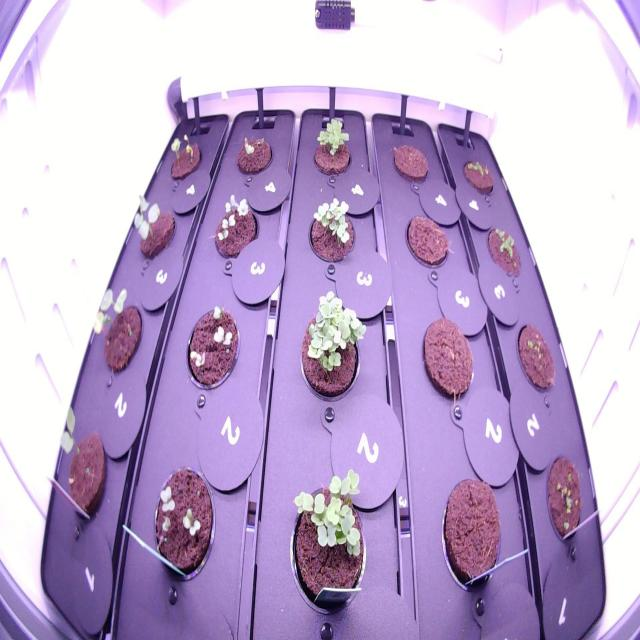germination: (285, 463, 377, 631), (146, 453, 221, 596), (294, 282, 372, 411), (51, 399, 113, 535), (180, 290, 243, 402), (86, 273, 148, 384), (538, 444, 590, 556), (303, 189, 363, 278), (206, 179, 265, 265), (507, 312, 561, 404), (125, 181, 182, 268), (303, 109, 358, 185), (479, 213, 528, 284), (162, 122, 207, 191), (231, 125, 277, 184), (457, 148, 499, 202)
pod: (434, 467, 508, 608), (416, 309, 479, 416), (399, 208, 454, 278), (385, 134, 434, 198)
